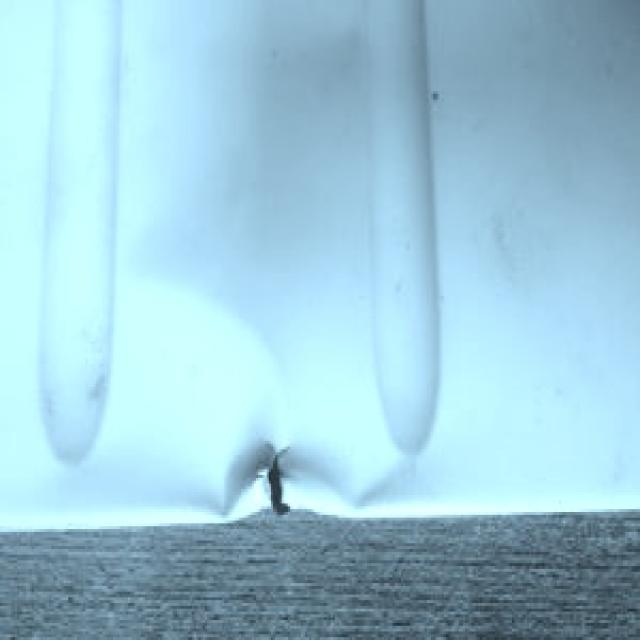crack: (257, 442, 302, 528)
